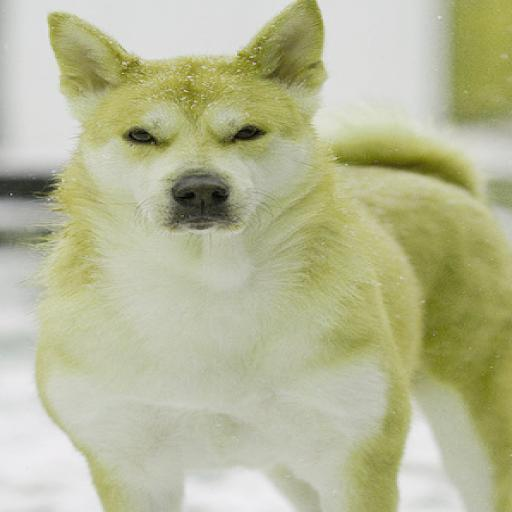dog_face: (46, 11, 346, 239)
